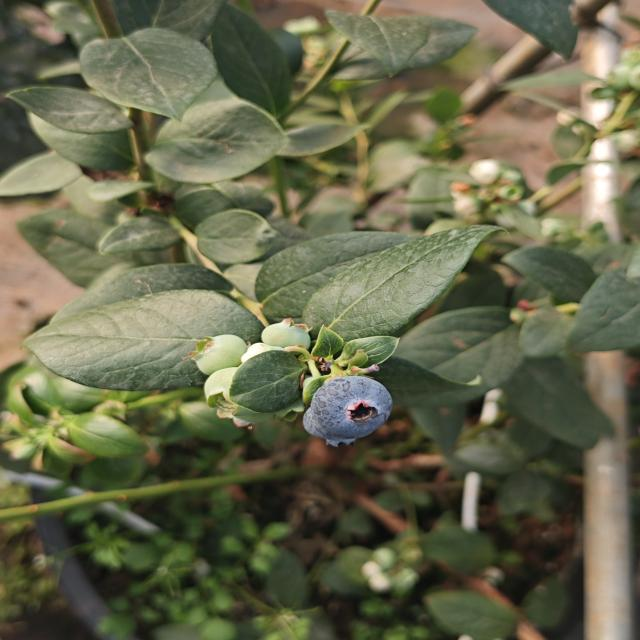ripe: (297, 367, 402, 452)
